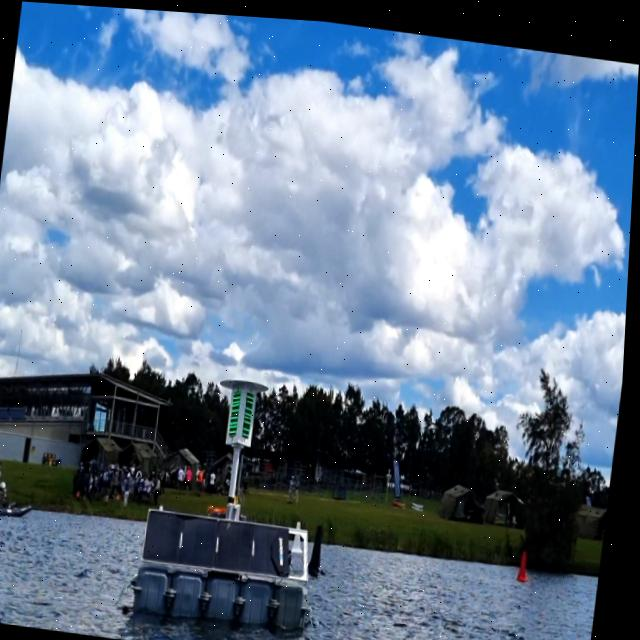led: (244, 385, 260, 440), (231, 384, 247, 437)
